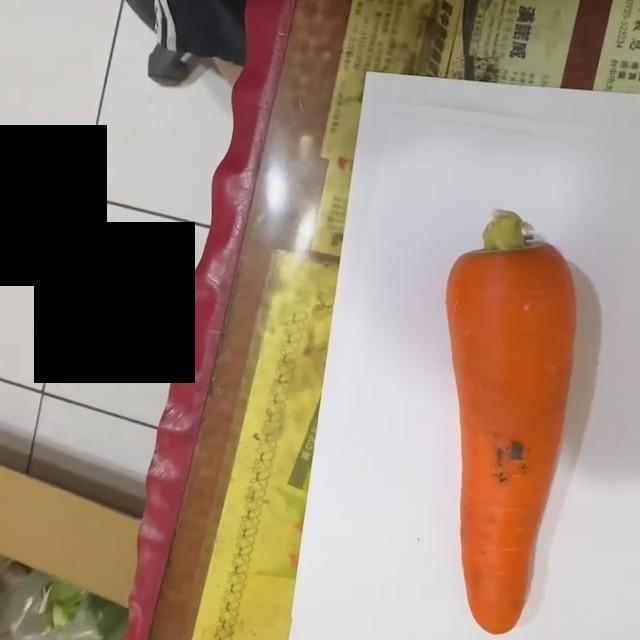carrot: (441, 207, 588, 640)
